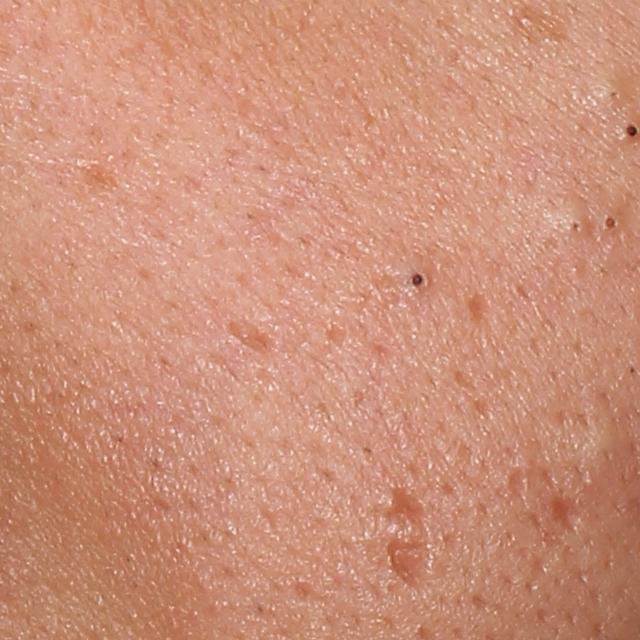atrophic_scar: (154, 348, 249, 467), (382, 483, 437, 591), (542, 384, 604, 455), (524, 514, 570, 589), (221, 315, 283, 355), (546, 490, 591, 539), (507, 467, 530, 515), (291, 582, 315, 608)
comedo: (605, 82, 626, 107), (598, 215, 626, 233)
melasma: (69, 160, 125, 203)
